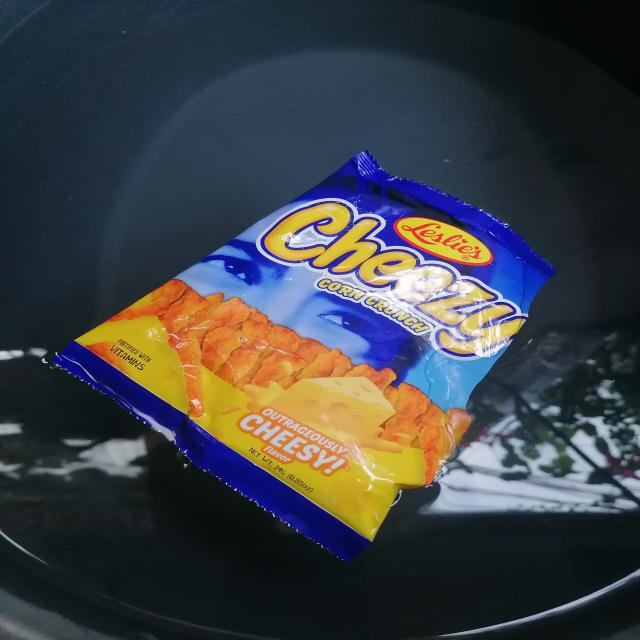Plastic Wrapper: (54, 152, 554, 561)
